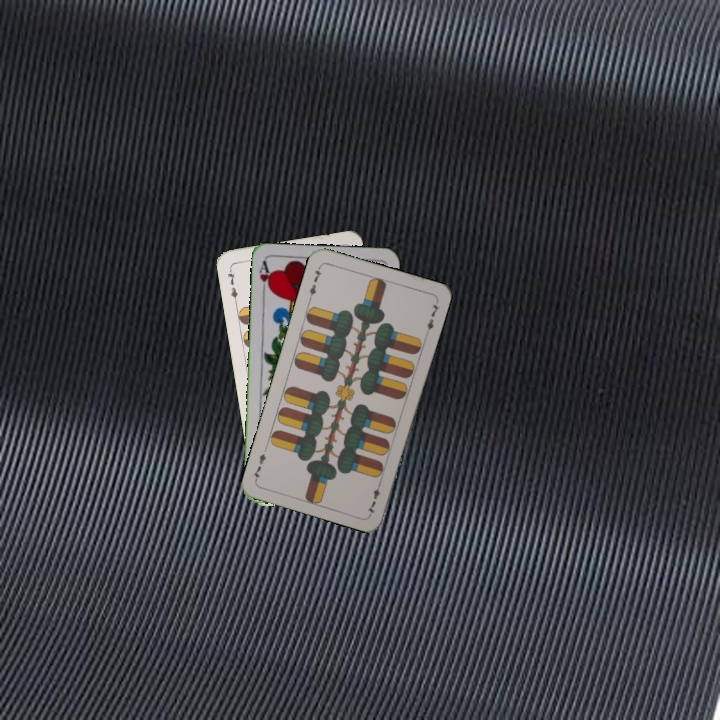E7: (363, 477, 384, 517), (305, 262, 324, 302), (223, 264, 240, 305)
HA: (255, 258, 274, 298)
